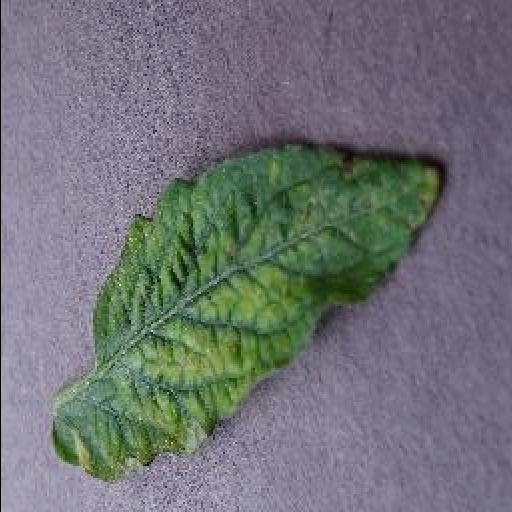Mosaic Virus: (50, 140, 444, 486)
